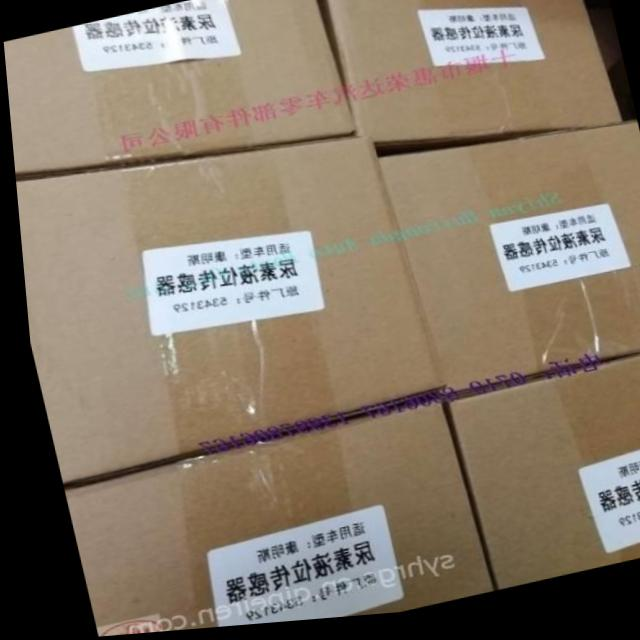box: (13, 140, 437, 483), (56, 407, 483, 637), (376, 129, 640, 400), (3, 0, 351, 173), (326, 0, 620, 163), (437, 362, 640, 597)
